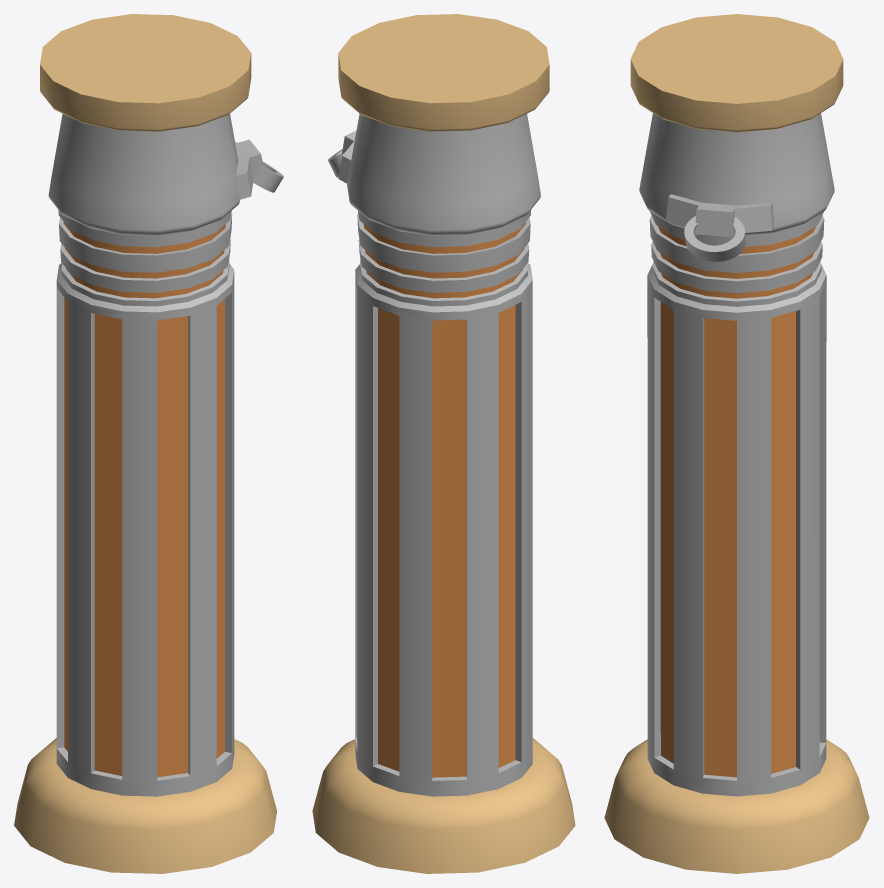
3 renders of one model, left to right at view 1: azimuth 30°, elevation 25°; view 2: azimuth 150°, elevation 25°; view 3: azimuth 270°, elevation 25°, orthographic.
Parts seen in each view (by area): view 1: Circle.029, Cube.062; view 2: Circle.029; view 3: Circle.029, Cube.062.
Boxes of the visible parts, x1,y1,x2,y2 form: Circle.029: (14, 14, 276, 873); Cube.062: (251, 161, 283, 192); Circle.029: (312, 14, 575, 873); Circle.029: (604, 14, 869, 873); Cube.062: (684, 216, 746, 261).
Bounding box in the file's own units: 174 × 535 × 170.
